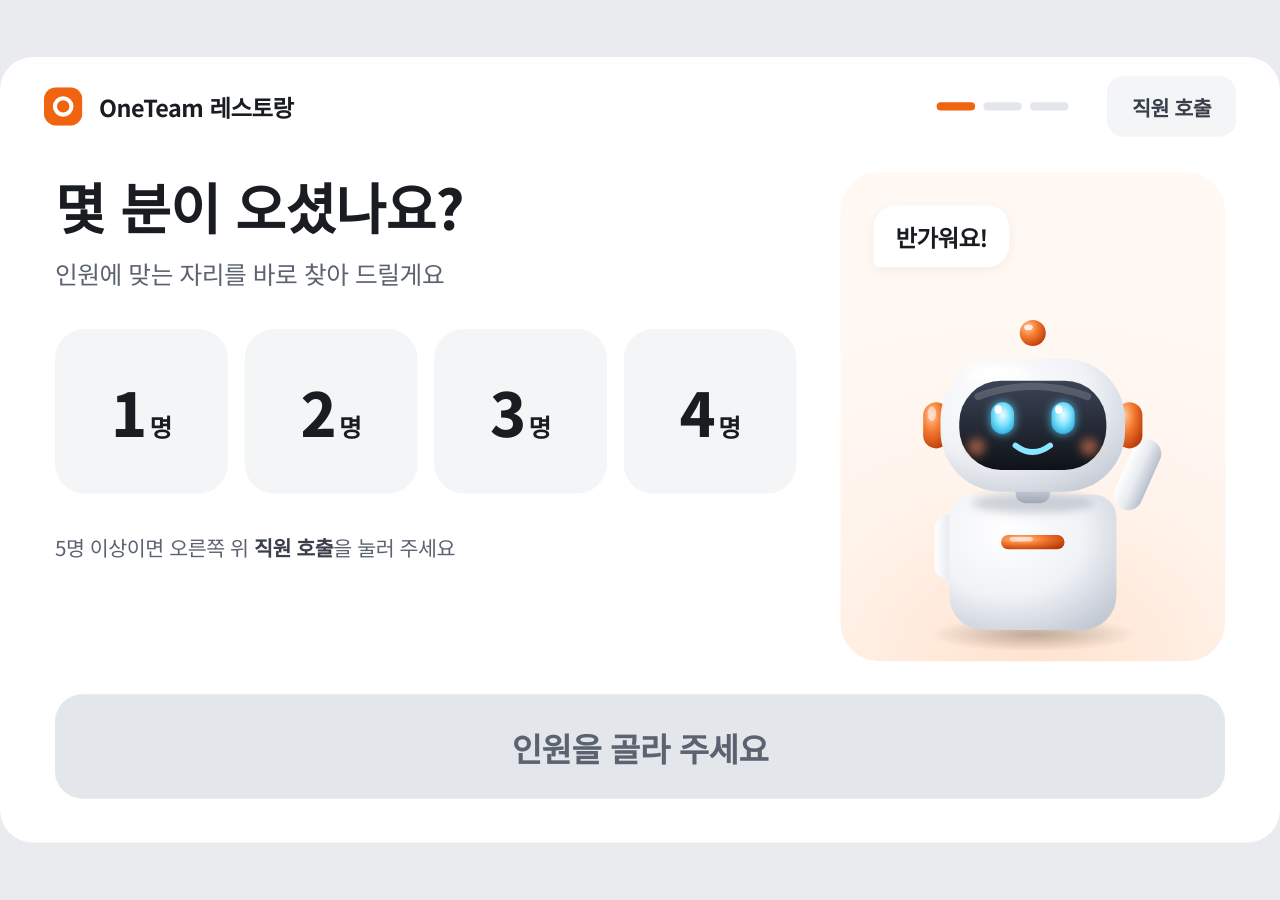
Test: 입구 키오스크 흐름 › 4명이면 4인석(4번)을 배정한다
Click the button named "4명": (710, 412) [624,329,796,494]
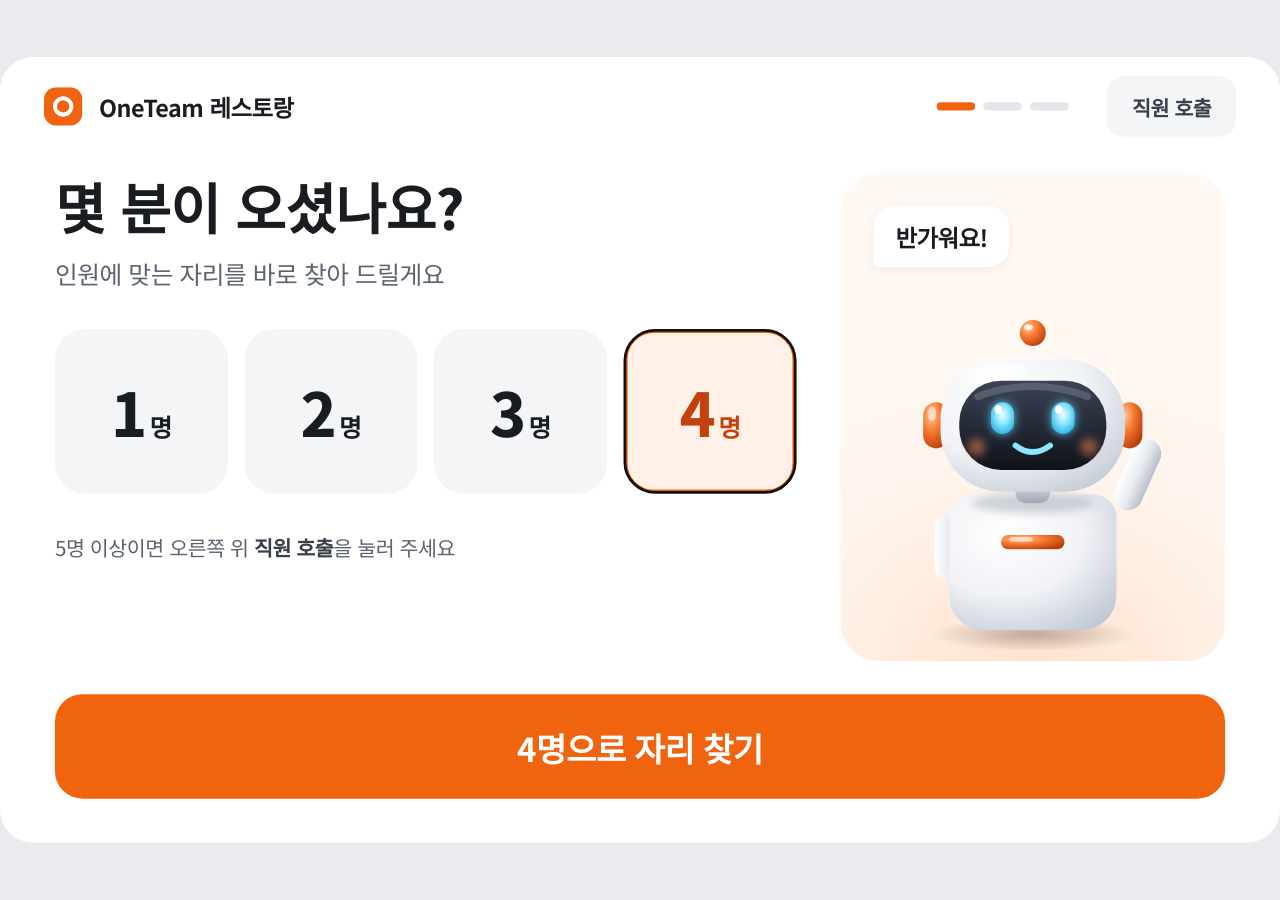
Click the button "4명으로 자리 찾기": (640, 747) [55,694,1225,799]
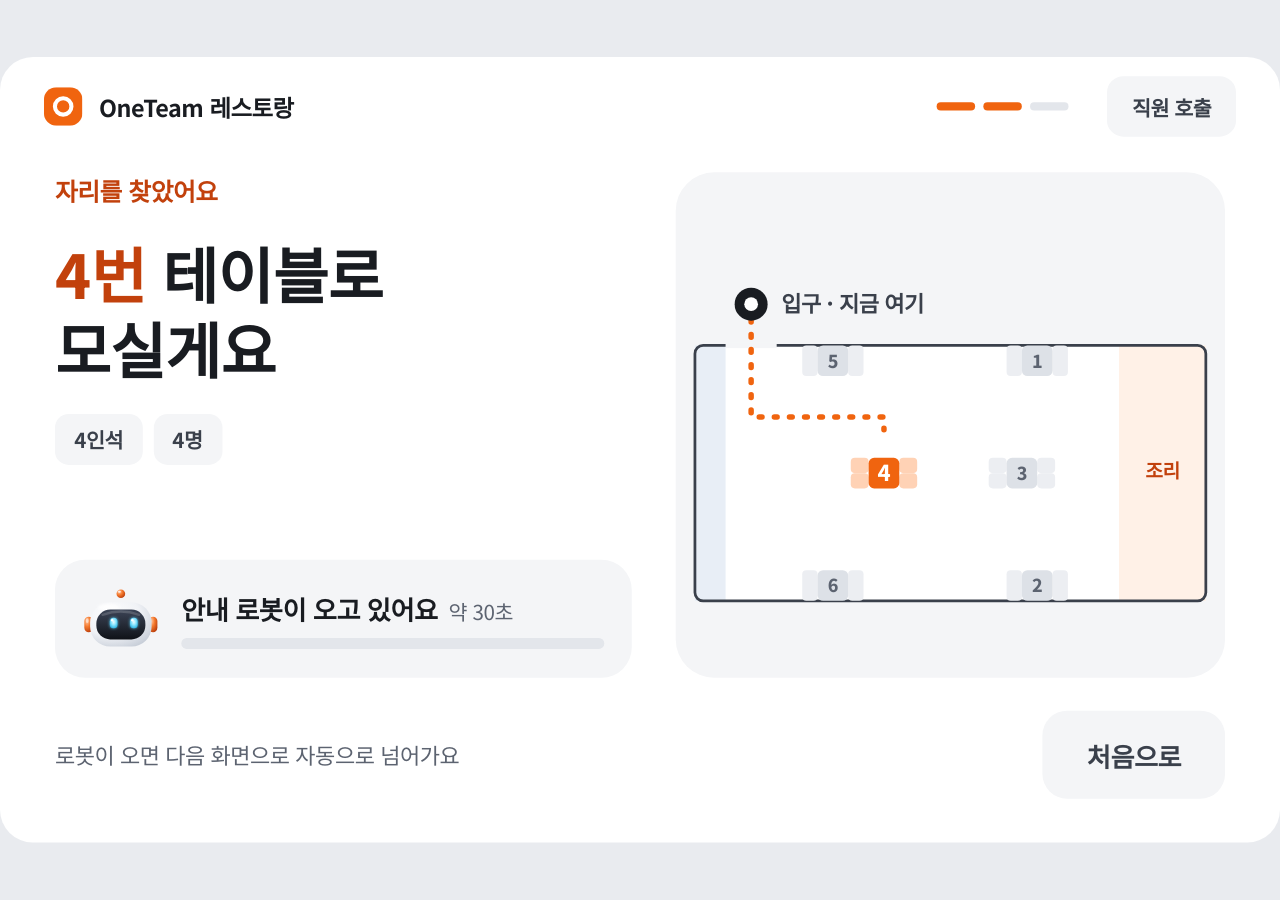
Check: the heading is shown, box [55,229,383,392]
Check: the text "4인석" is shown, box [55,414,142,465]
